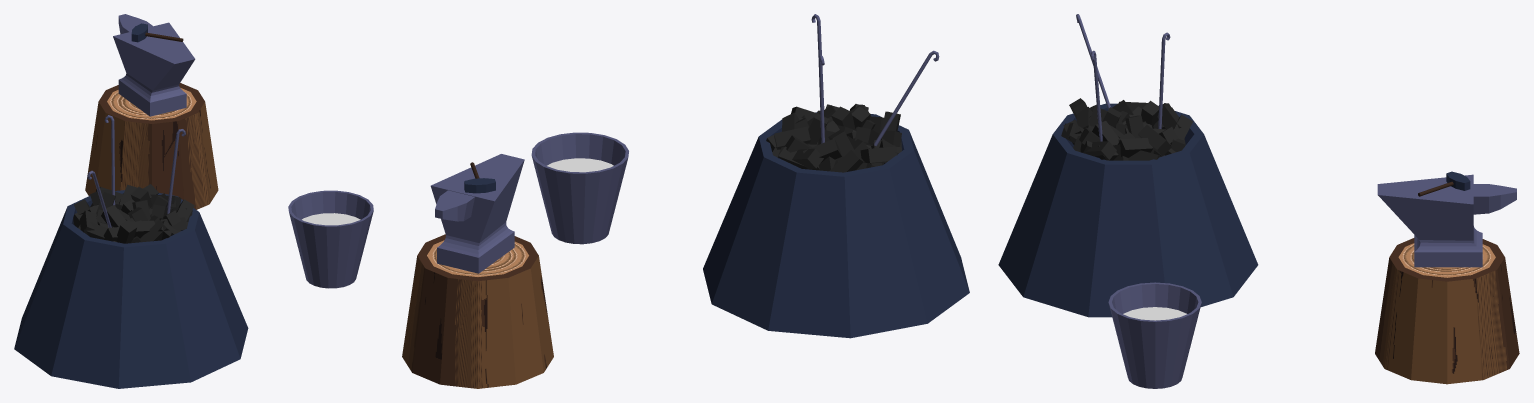
Rendered from Forja.fbx.
3 views of the same model, side by side, from view 1: azimuth 30°, elevation 25°; view 2: azimuth 150°, elevation 25°; view 3: azimuth 270°, elevation 25° (orthographic). The views are drawn at different scales.
Visible parts, largest first — view 1: Circle.004; view 2: Circle.004; view 3: Circle.004.
Boxes of the visible parts, x1,y1,x2,y2 form: Circle.004: (14,14,373,388); Circle.004: (402,14,969,388); Circle.004: (998,14,1519,388).
Size of the model in its own units: 884 by 1055 by 517.
6 materials, 2 textured.
